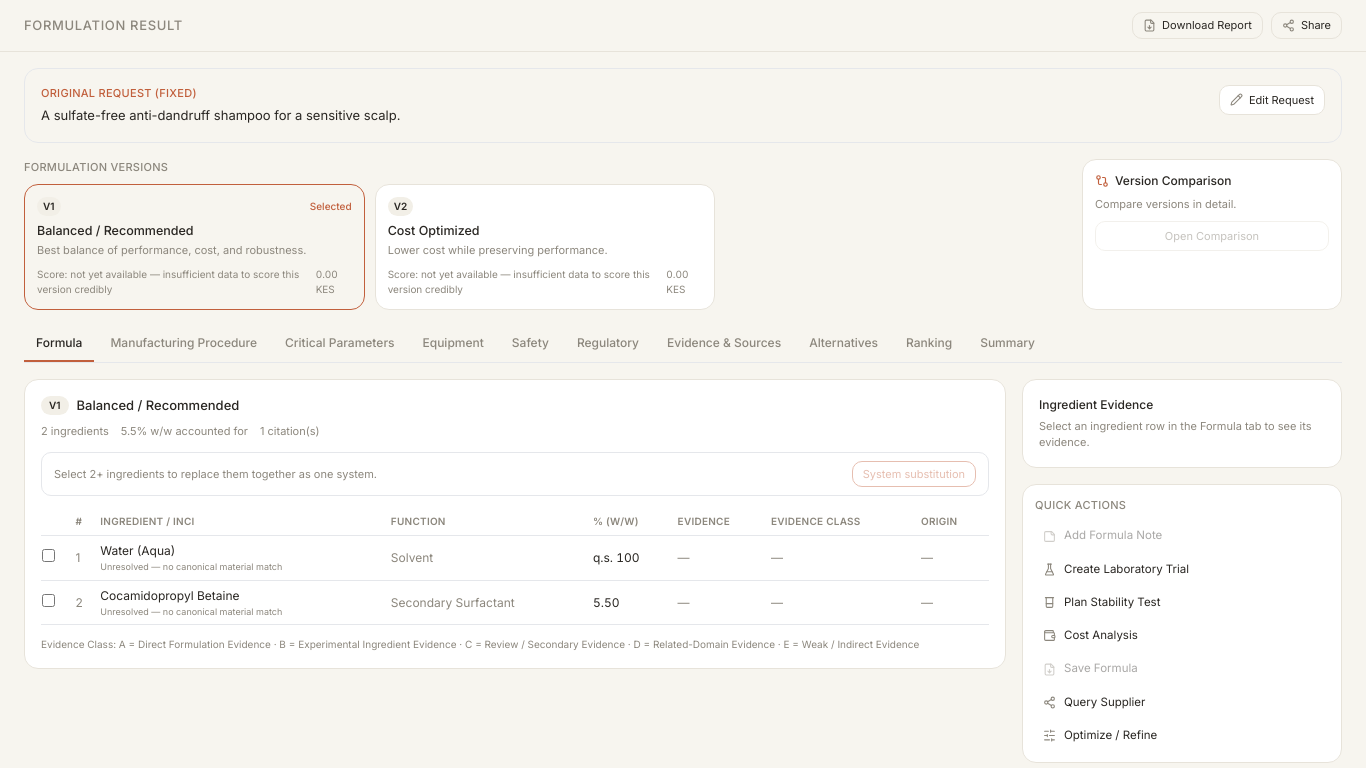
Test: FormulationResultPage › shows per-dimension ranking and labels missing predictions honestly
Expected: the text "A sulfate-free anti-dandruff shampoo for a sensitive scalp." is shown, x1=41 y1=105 x2=400 y2=126
Click the tab "Ranking" at (929, 344), box x1=894 y1=326 x2=964 y2=362
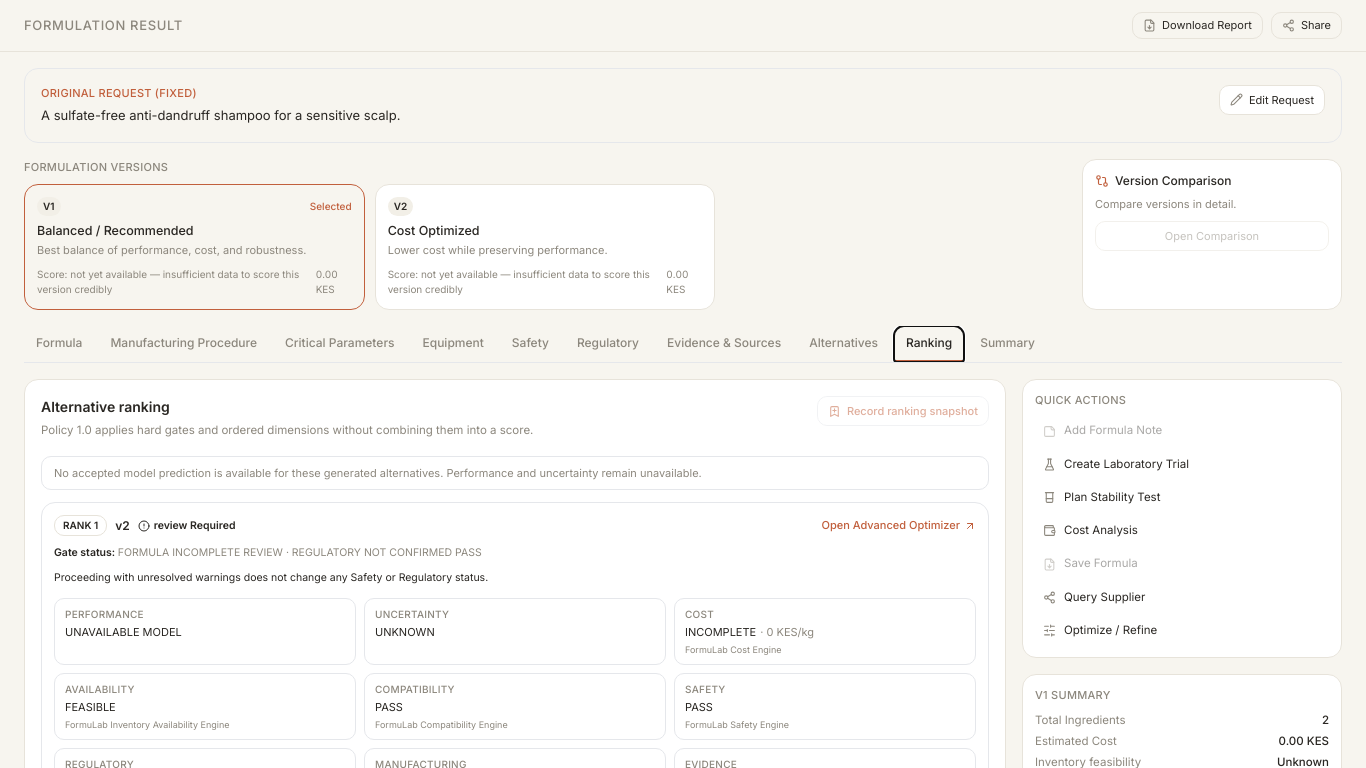
Expected: the heading "Alternative ranking" is shown, x1=41 y1=398 x2=170 y2=415
Expected: the text "No accepted model prediction is available" is shown, x1=54 y1=466 x2=702 y2=480
Expected: the text "performance" is shown 2 times
